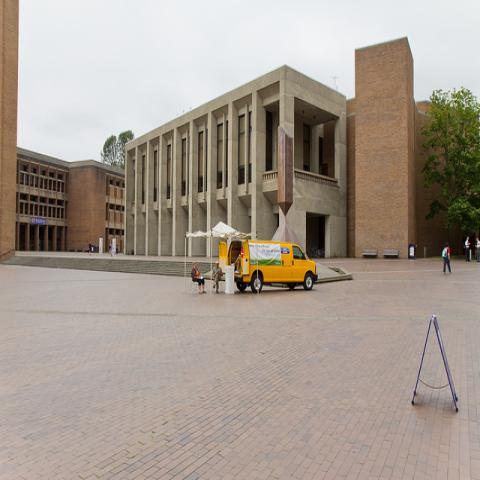truck: (218, 238, 318, 294)
